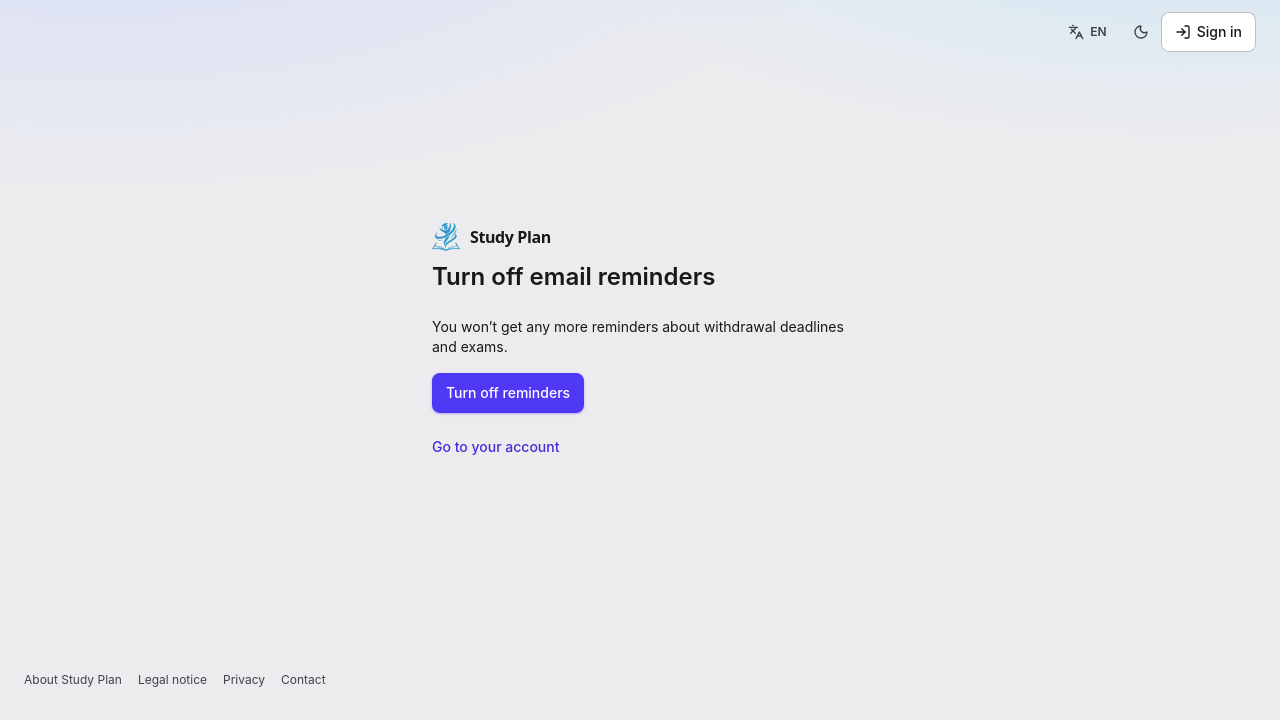
Test: account, start and shared pages in English › turns reminders off from the e-mail link
The width and height of the screenshot is (1280, 720).
Expected: the heading "Turn off email reminders" is shown, [432, 262, 715, 291]
Click the button "Turn off reminders": (508, 393) [432, 373, 584, 413]
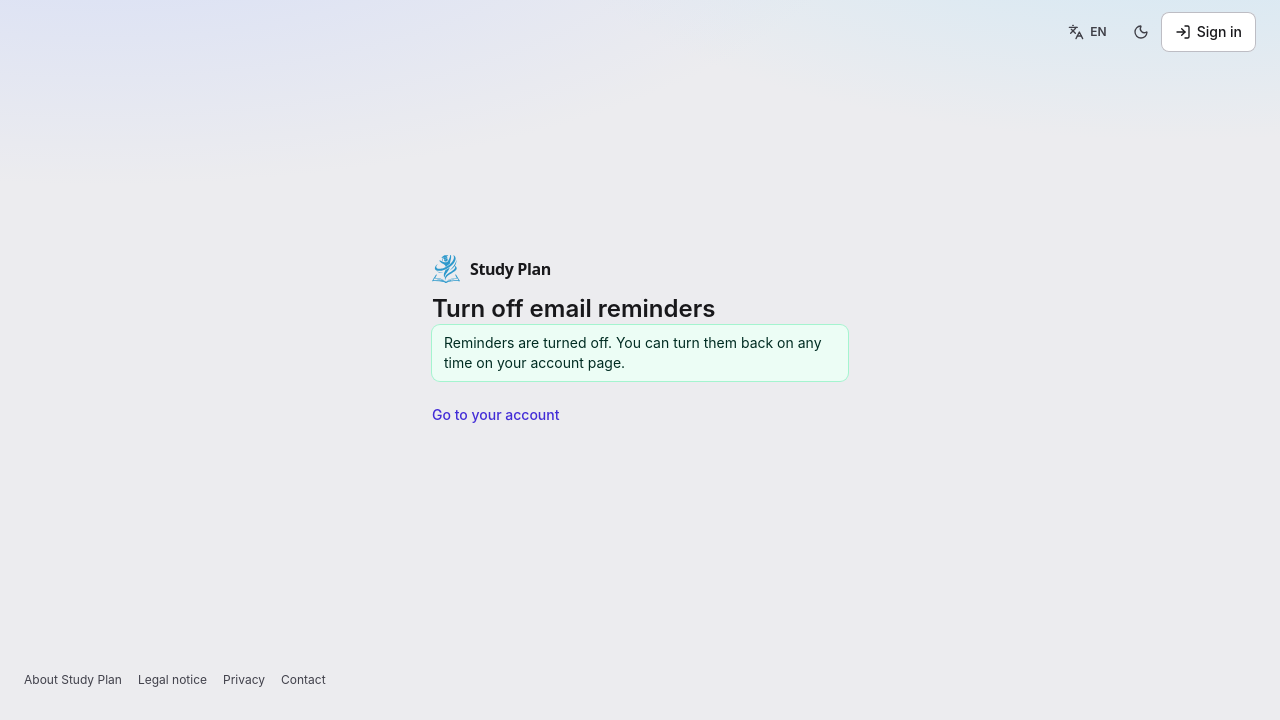
Expected: the text "Reminders are turned off" is shown, [444, 334, 822, 371]
